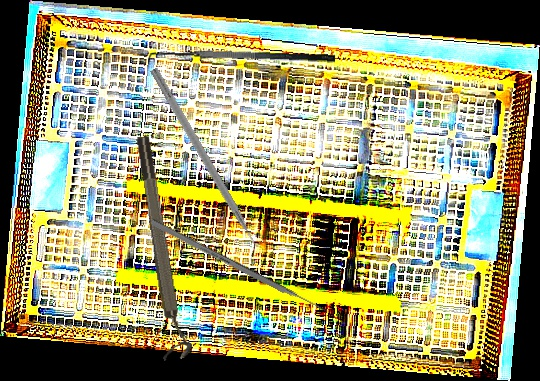Chopper: (139, 67, 265, 263)
Fixation Ring: (132, 134, 194, 361)
Pusher: (150, 219, 336, 318)
Spatula Surgical: (147, 44, 336, 78)
